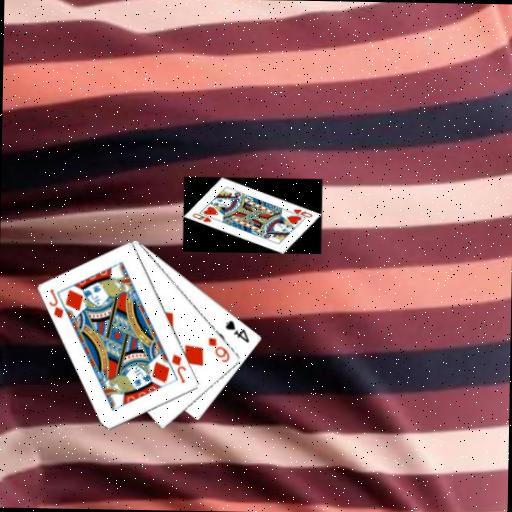4S: (222, 317, 251, 344)
6D: (205, 335, 232, 364)
JD: (169, 351, 189, 385), (46, 286, 66, 320)
